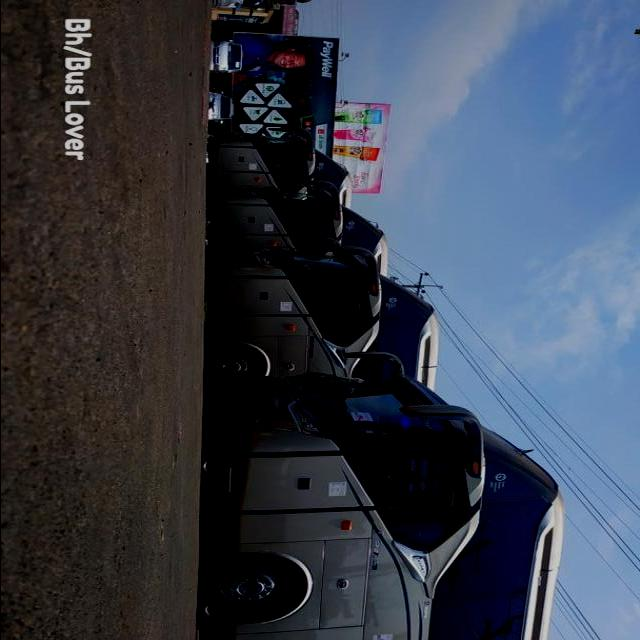bus: (196, 351, 569, 640)
